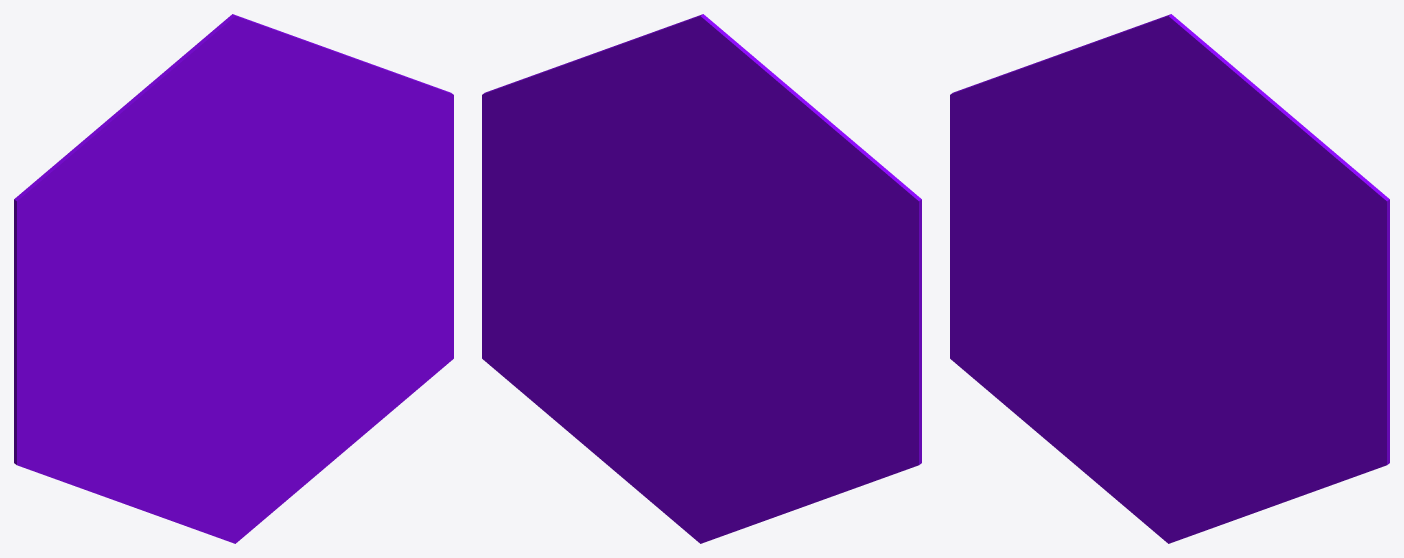
The model's file is Segi_Enam.fbx.
3 renders of one model, left to right at view 1: azimuth 30°, elevation 25°; view 2: azimuth 150°, elevation 25°; view 3: azimuth 330°, elevation 25°, orthographic.
Parts seen in each view (by area): view 1: Circle; view 2: Circle; view 3: Circle.
Boxes of the visible parts, left/top/right/bottom form: Circle: left=14, top=14, right=453, bottom=543; Circle: left=482, top=14, right=921, bottom=543; Circle: left=950, top=14, right=1389, bottom=543.
Bounding box in the file's own units: 173 × 200 × 2.
